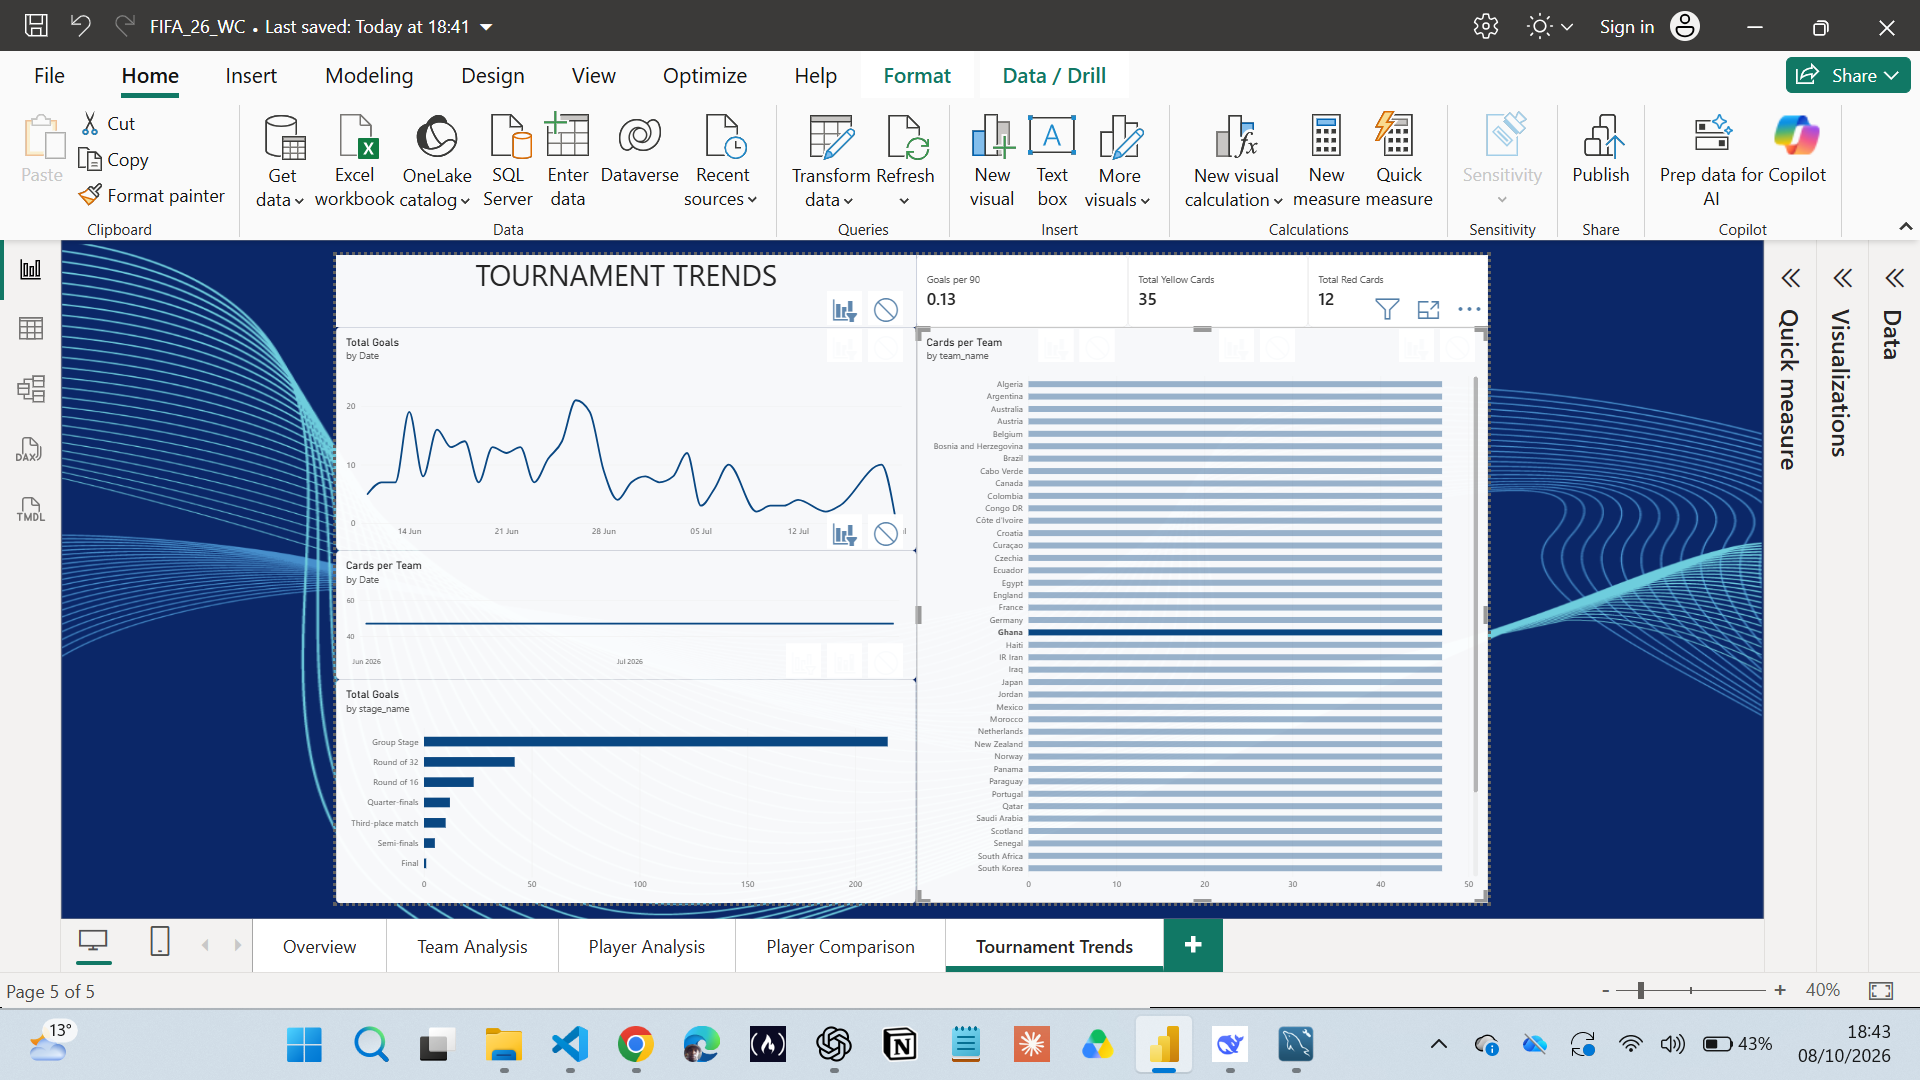

What the dashboard file says about the page in this screenshot:
{"tool":"powerbi","page":{"name":"Tournament Trends","canvas":[1920,1080],"ordinal":4},"visuals":[{"type":"textbox","box":[0,0,967.5,120],"z":0},{"type":"lineChart","title":"Goals over Time","fields":{"Category":["Date.Date"],"Y":["matches.Total Goals"]},"box":[0,120,967.5,372.5],"z":1},{"type":"clusteredBarChart","title":"Goals by Tournament Stage","fields":{"Category":["tournament_stages.stage_name"],"Y":["matches.Total Goals"]},"box":[0,706.7,966.7,373.3],"z":2},{"type":"clusteredBarChart","title":"Total Cards by Team","fields":{"Category":["teams.team_name"],"Y":["player_stats.Cards per Team"]},"box":[966.7,120,953.3,960],"z":3},{"type":"lineChart","title":"Cards over Time","fields":{"Category":["Date.Date"],"Y":["player_stats.Cards per Team"]},"box":[0,492.5,967.5,215],"z":4},{"type":"cardVisual","fields":{"Data":["matches.Total Red Cards"]},"box":[1620,0,300,120],"z":5},{"type":"cardVisual","fields":{"Data":["matches.Total Yellow Cards"]},"box":[1320,0,300,120],"z":6},{"type":"cardVisual","fields":{"Data":["matches.Goals per 90"]},"box":[967.5,0,352.5,120],"z":7}]}

Visuals, with their boxes on the page's 1920x1080 design canvas (x1, y1, x2, y2). These are canvas units, not pixel positions in the 1920x1080 screenshot, which may show the page scaled, cropped or inside an application window:
textbox: (0,0,968,120)
"Goals over Time" lineChart: (0,120,968,492)
"Goals by Tournament Stage" clusteredBarChart: (0,707,967,1080)
"Total Cards by Team" clusteredBarChart: (967,120,1920,1080)
"Cards over Time" lineChart: (0,492,968,708)
cardVisual - matches.Total Red Cards: (1620,0,1920,120)
cardVisual - matches.Total Yellow Cards: (1320,0,1620,120)
cardVisual - matches.Goals per 90: (968,0,1320,120)
